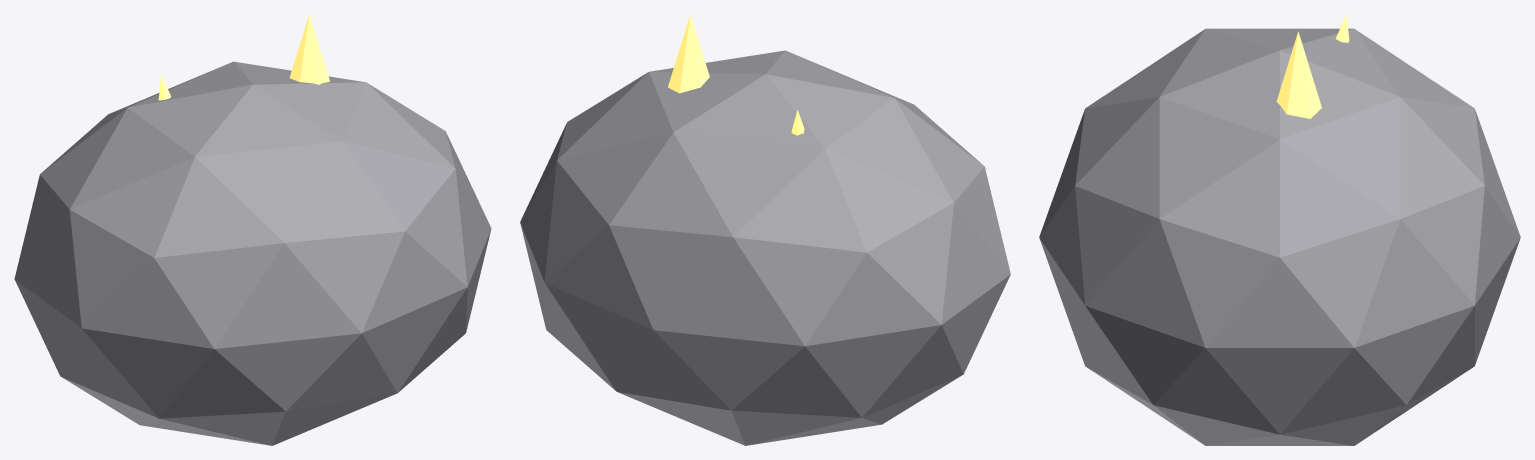
File: OreTier3.fbx
The picture shows the model from 3 angles, left to right: view 1: azimuth 30°, elevation 25°; view 2: azimuth 150°, elevation 25°; view 3: azimuth 270°, elevation 25°; orthographic projection. The views are drawn at different scales.
Visible parts, largest first — view 1: Rock, Crystal1; view 2: Rock, Crystal1; view 3: Rock, Crystal1.
Part boxes in pixels (left/top/right/bottom): Rock: left=14, top=61, right=491, bottom=445; Crystal1: left=289, top=14, right=329, bottom=84; Rock: left=520, top=50, right=1010, bottom=445; Crystal1: left=668, top=14, right=709, bottom=93; Rock: left=1039, top=28, right=1520, bottom=445; Crystal1: left=1276, top=31, right=1321, bottom=118.
Bounding box in the file's own units: 2.85 × 2.57 × 2.62.
